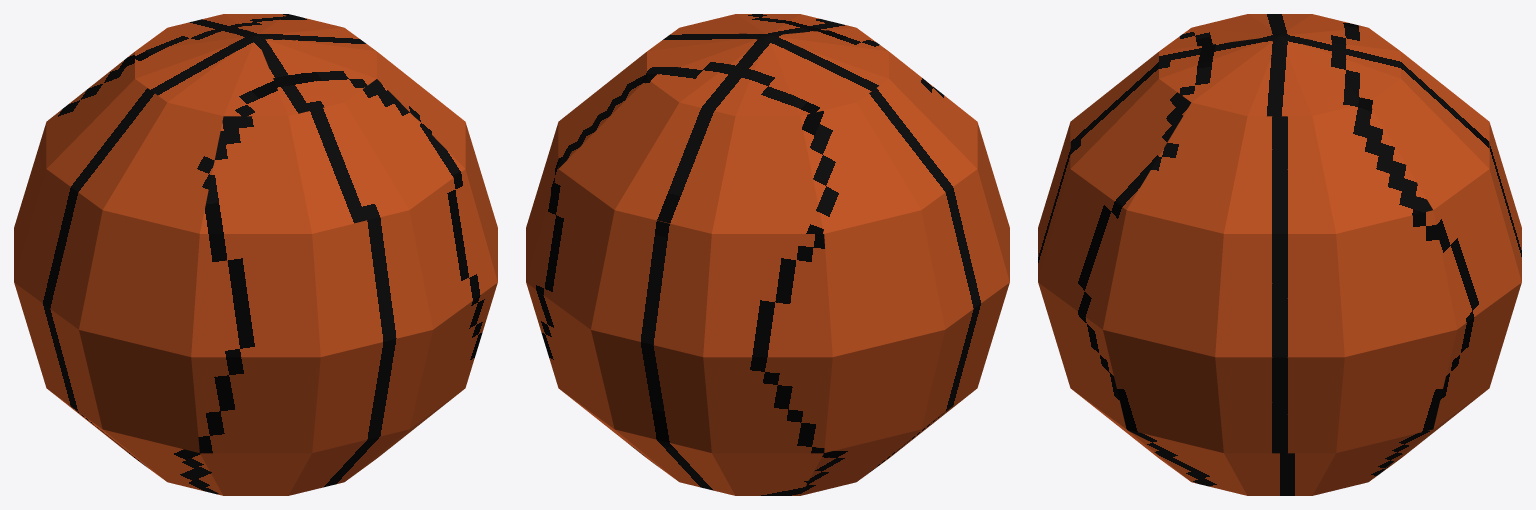
The model's file is bball2.gltf.
The picture shows the model from 3 angles, left to right: view 1: azimuth 30°, elevation 25°; view 2: azimuth 150°, elevation 25°; view 3: azimuth 270°, elevation 25°; orthographic projection.
Visible parts, largest first — view 1: sphere; view 2: sphere; view 3: sphere.
Part boxes in pixels (box(x1,y1,x2,y2)): sphere: box(14, 14, 497, 495); sphere: box(526, 14, 1009, 495); sphere: box(1038, 14, 1521, 495).
Bounding box in the file's own units: 1 × 1 × 1.
Materials: 1 (1 with a texture image).
